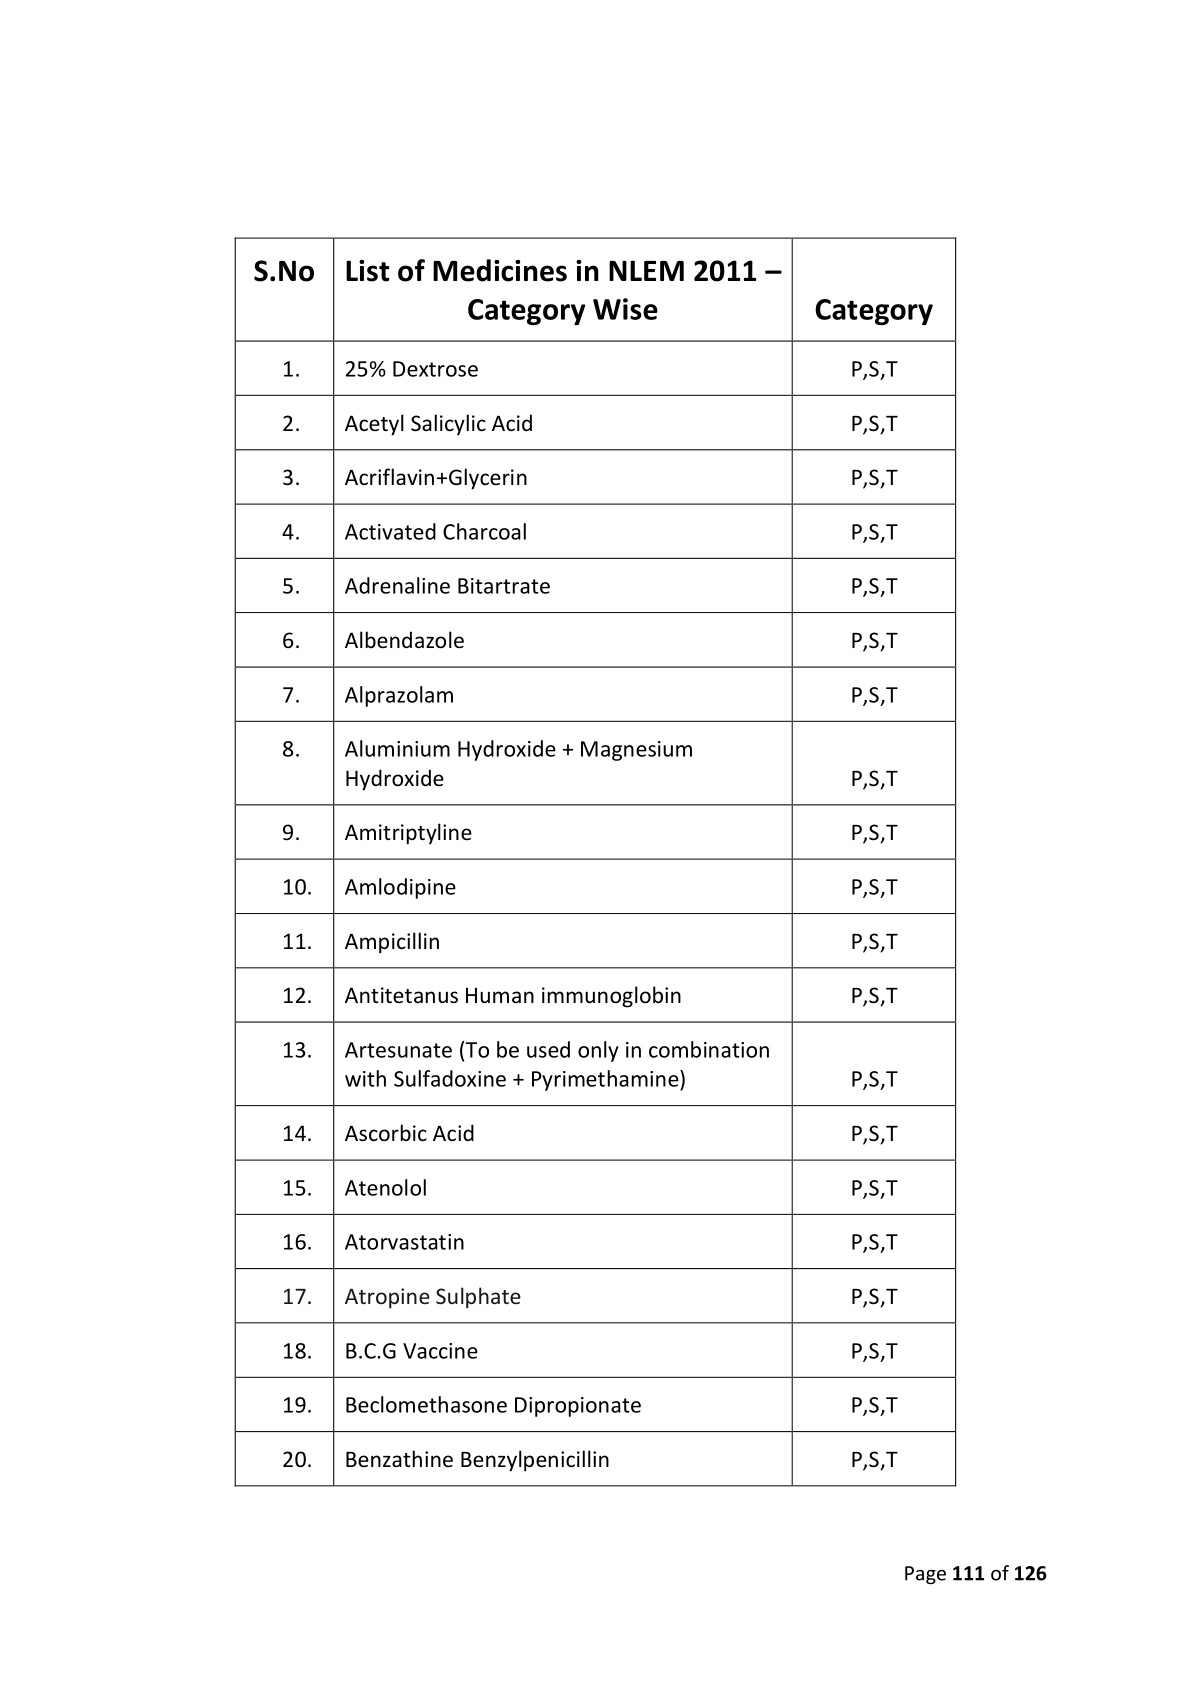full_lined: (233, 236, 956, 1487)
